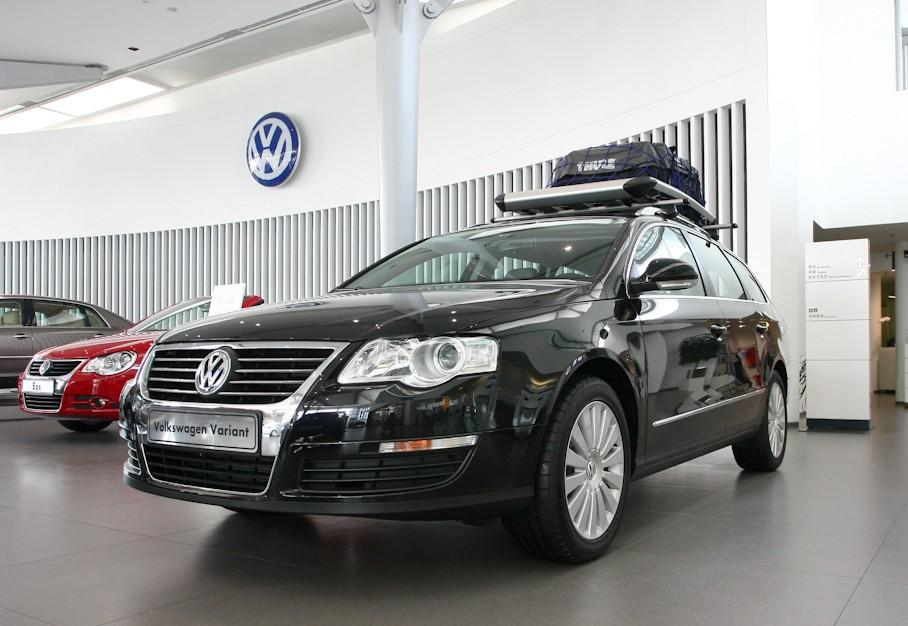Wagon: (117, 214, 789, 566)
